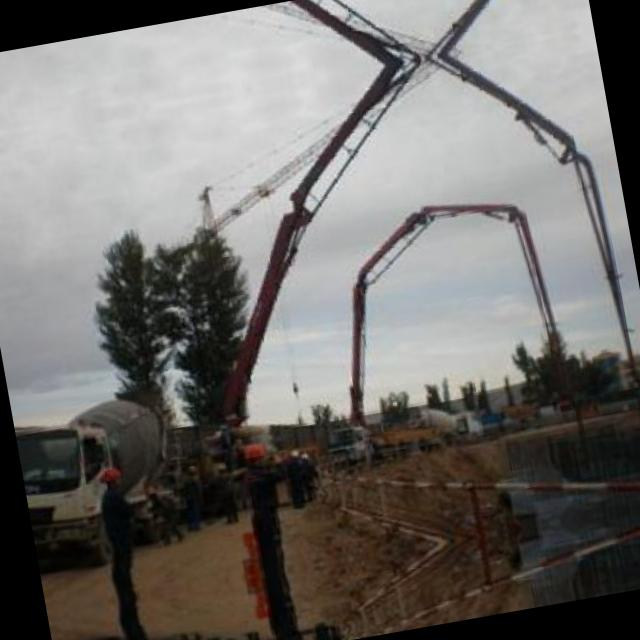helmet: (242, 435, 273, 468), (97, 464, 127, 494)
